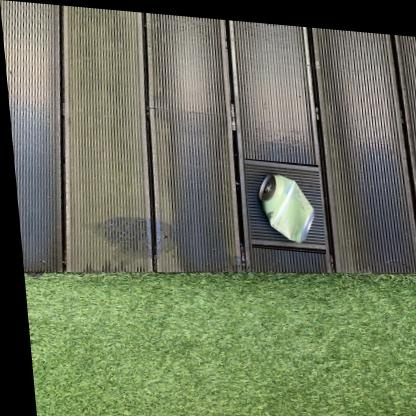trash: (258, 175, 313, 242)
